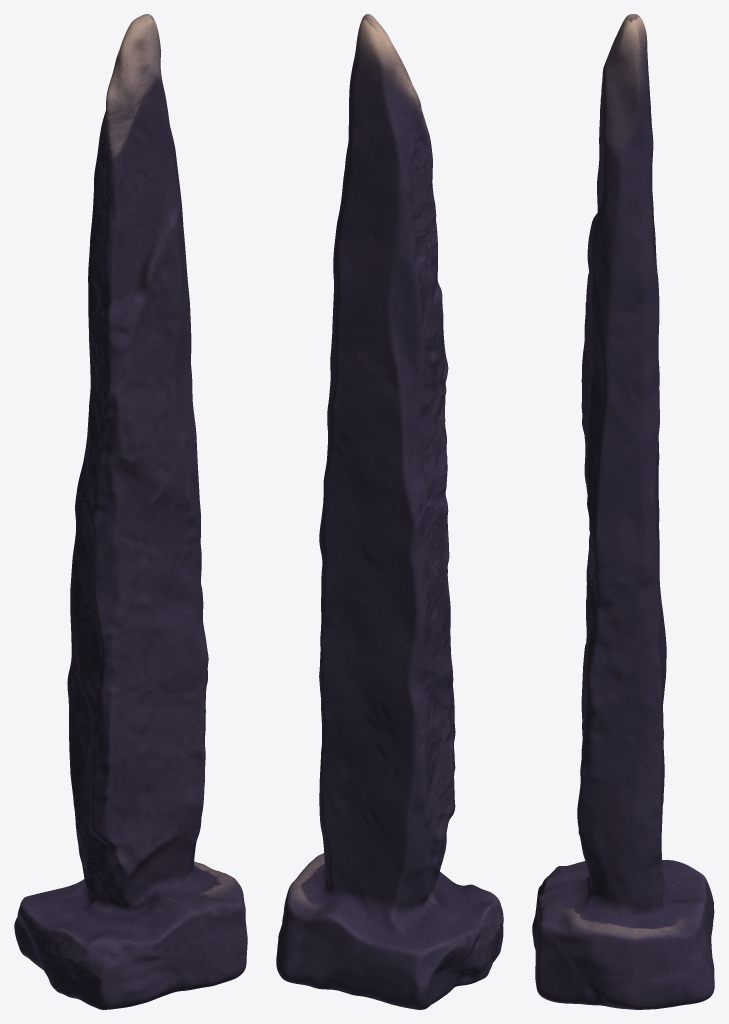
Rendered from sf-anchor-spire.glb.
The picture shows the model from 3 angles, left to right: view 1: azimuth 30°, elevation 25°; view 2: azimuth 150°, elevation 25°; view 3: azimuth 270°, elevation 25°; orthographic projection.
Size of the model in its own units: 0.3951 by 1.9 by 0.3268.
Materials: 1 (1 with a texture image).
